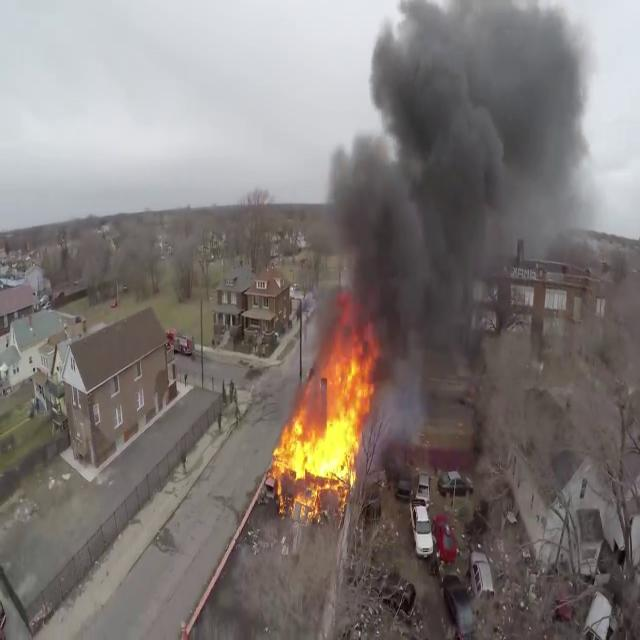Fire: (267, 336, 379, 507)
Smoke: (312, 0, 587, 372)
